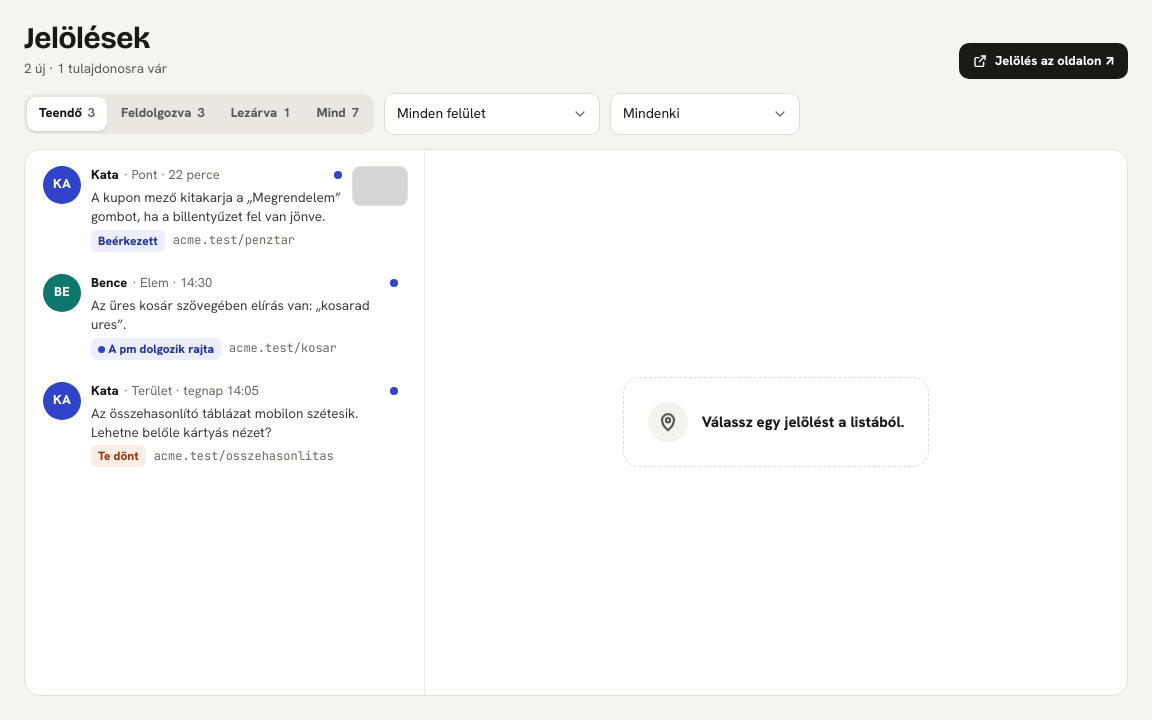
opening the page of the product › says so when the browser refuses the new tab, and asks the server for nothing
What coordinates should you click on to do the following:
click the button "Jelölés az oldalon ↗"
I would click on:
 (1044, 61)
Its box is [959, 43, 1128, 79].
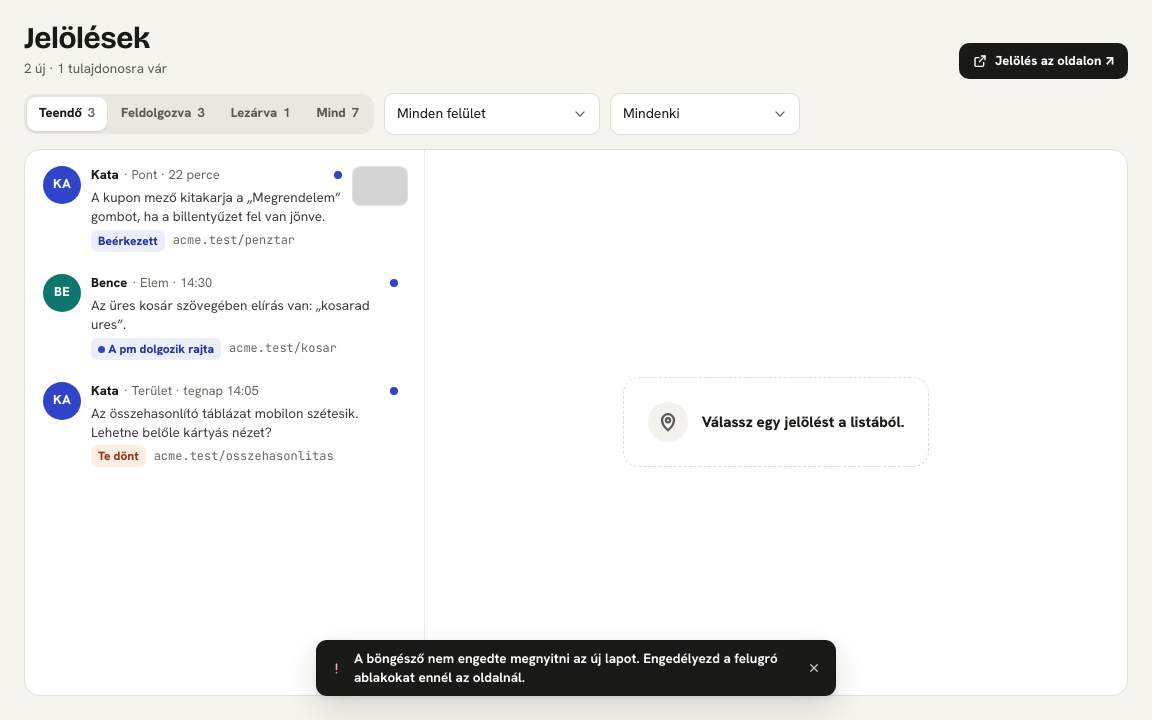
Result: the text "A böngésző nem engedte megnyitni az új lapot. Engedélyezd a felugró ablakokat ennél az oldalnál." is shown at [354, 649, 778, 686]
